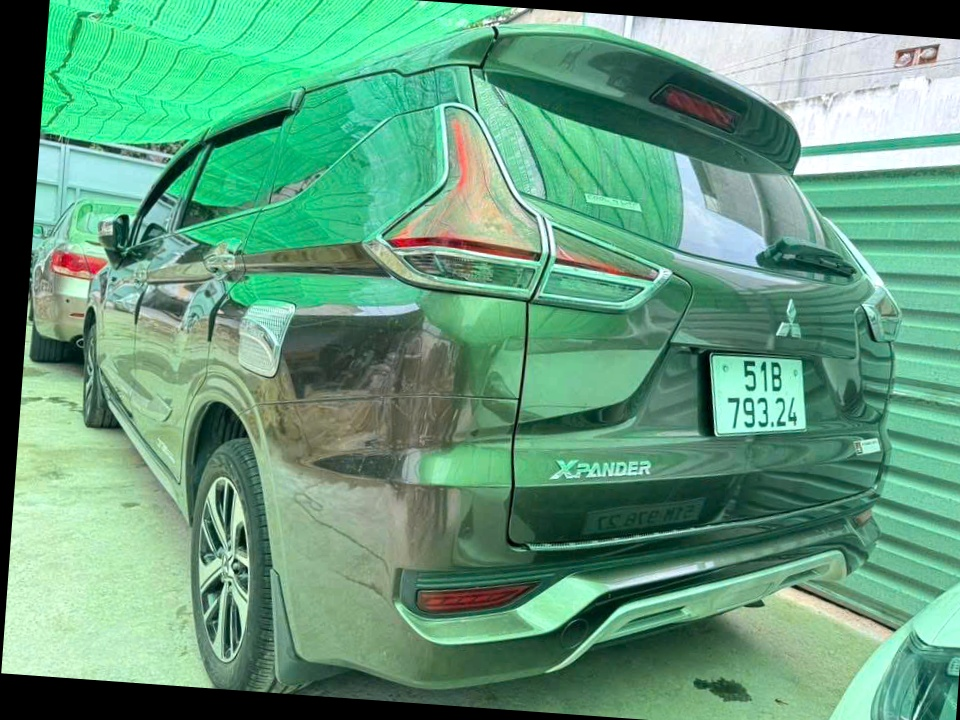Bien-so: (701, 350, 818, 448)
